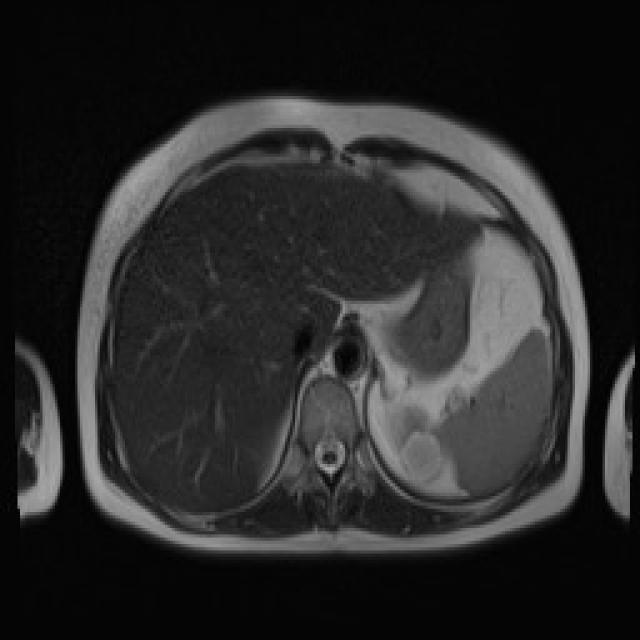sol: (377, 401, 445, 483)
